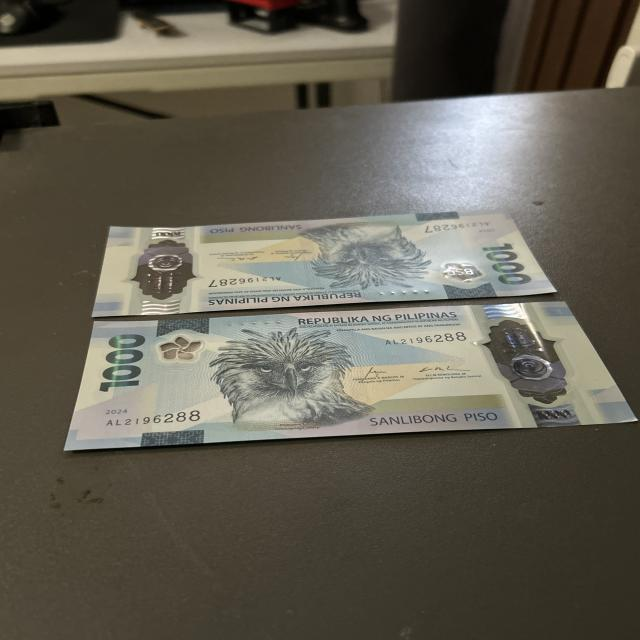clear_window: (476, 312, 572, 411), (128, 235, 198, 302)
eagle: (214, 328, 360, 430), (297, 220, 430, 284)
sampaguita: (151, 331, 199, 361), (437, 255, 481, 286)
serial_number: (102, 407, 202, 428), (374, 330, 474, 347)
value: (87, 331, 146, 394)
